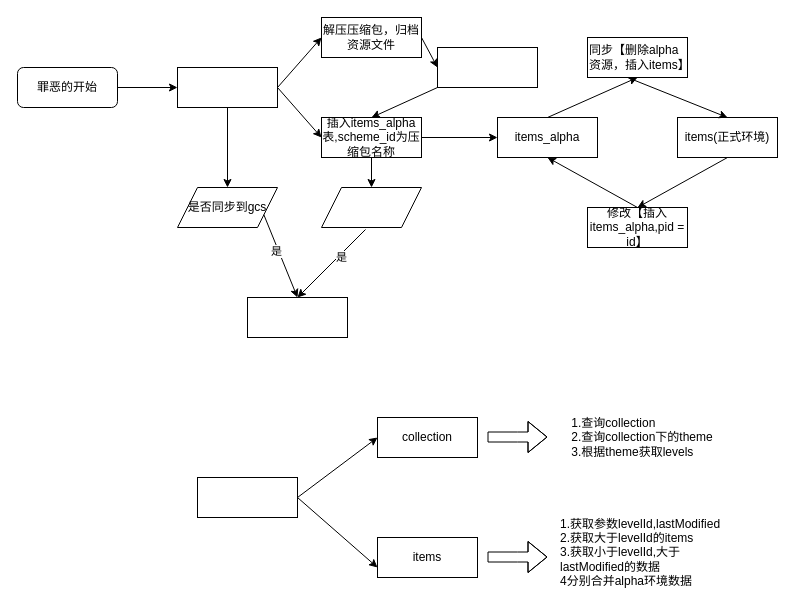
This 795x606 diagram has some shape labels left out. The shapes that lost their labels are listed below. From the top down, each one's centre as x and y in pixels, then its label:
(227,87): 批量上传资源
(487,67): 拼装资源文件url
(371,207): sucess?
(297,317): 同步到gcs
(247,497): app
